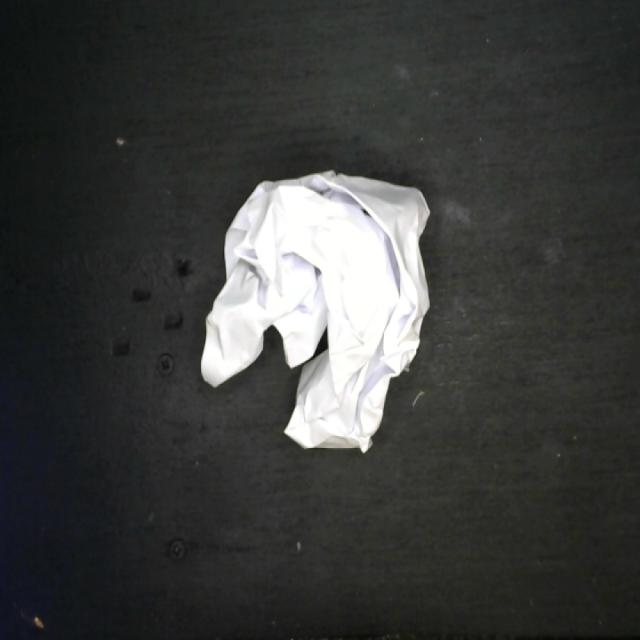biodegradable: (197, 167, 434, 463)
